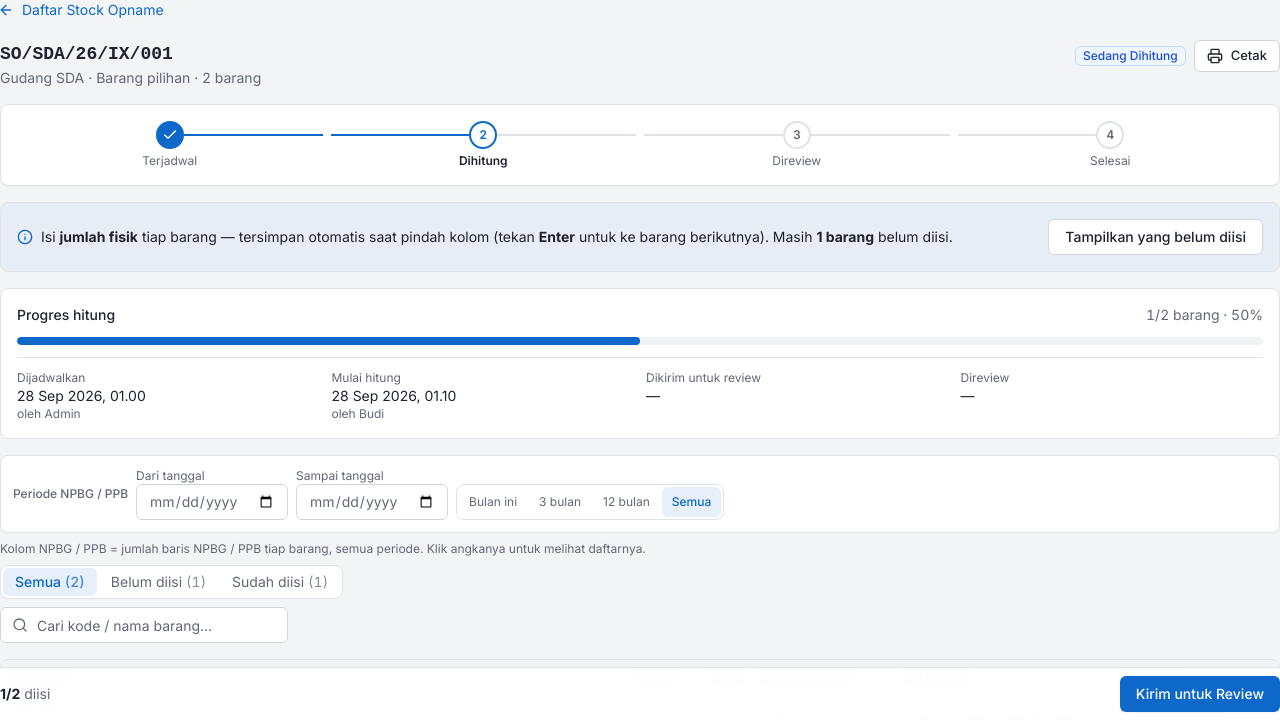
it: OpnameDetailPage › blocks sending while rows are still empty
What coordinates should you click on to do the following:
click the button "Kirim untuk Review"
I would click on:
 (1200, 694)
Its box is [1120,676,1279,712].
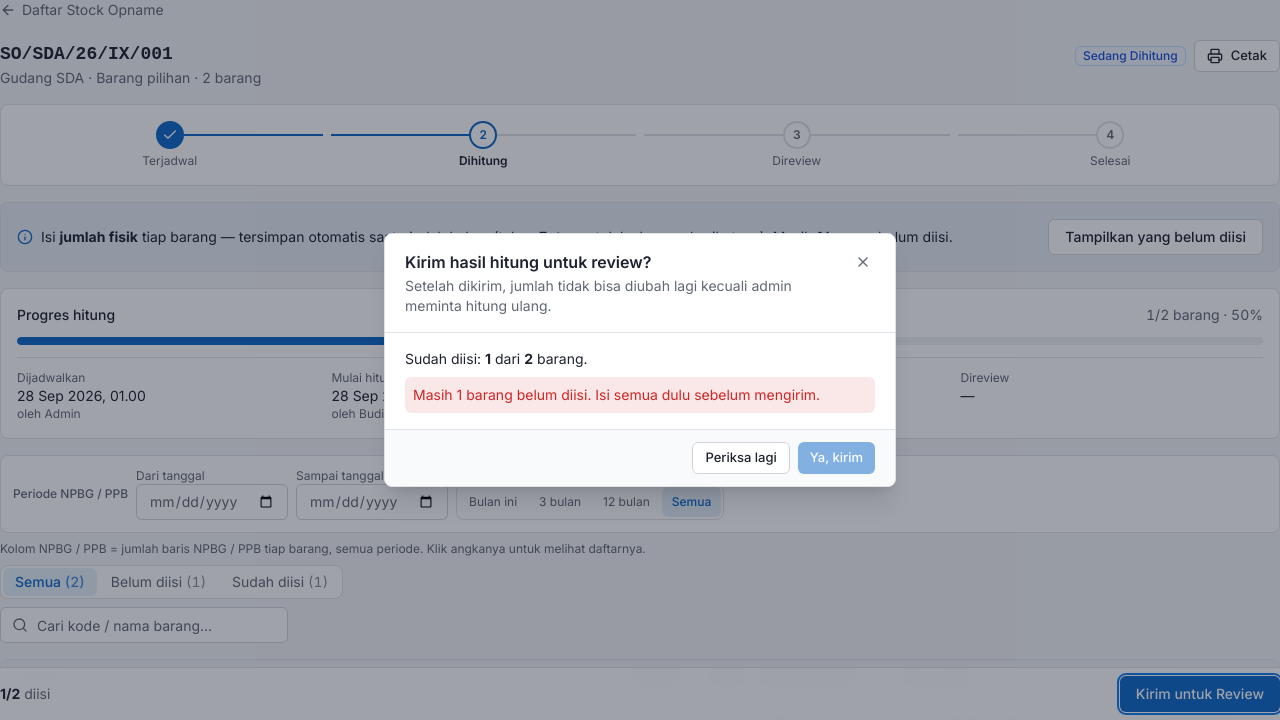
Result: the text "Masih 1 barang belum diisi. Isi semua dulu sebelum mengirim." is shown at [405,377,875,413]
Result: the button "Ya, kirim" is disabled at [798,442,875,474]
